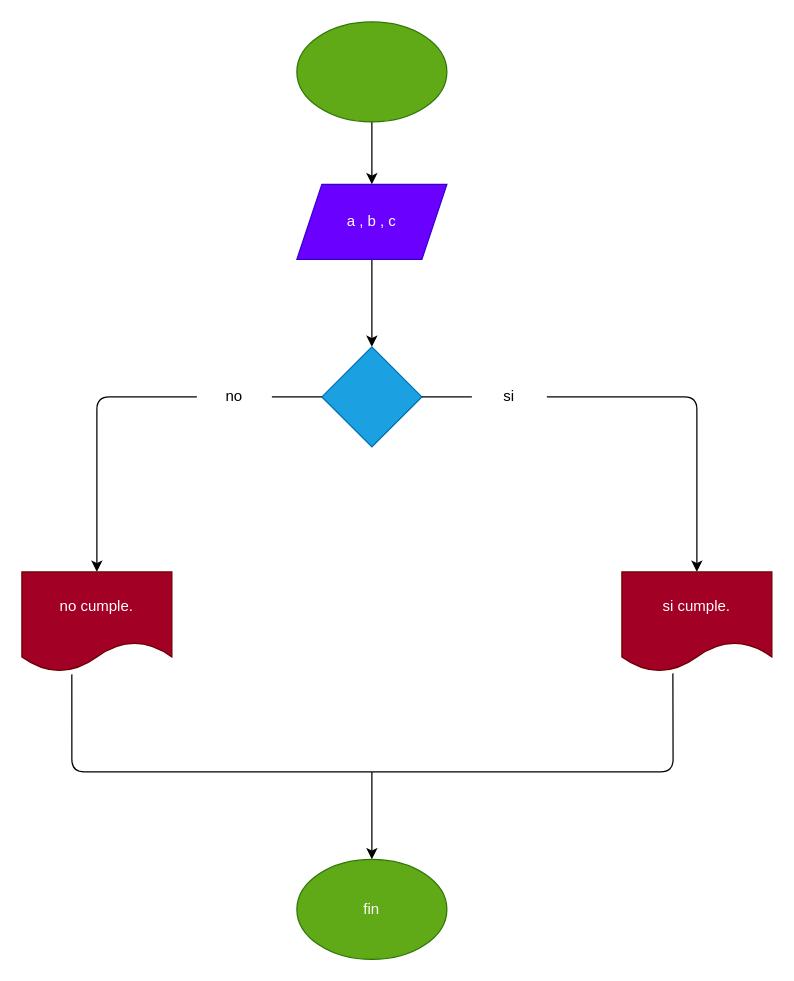
Image size: 794x981. Some labels were removed from this diagram. The shapes that lost their labels are listed below. From the top down, each one's centre as x and y in pixels, then its label:
pixel 371 71: inicio
pixel 371 396: a + b = c
